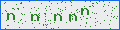n: (80, 8, 89, 16), (69, 14, 77, 22), (54, 14, 63, 21), (31, 14, 39, 21), (7, 13, 15, 20)
